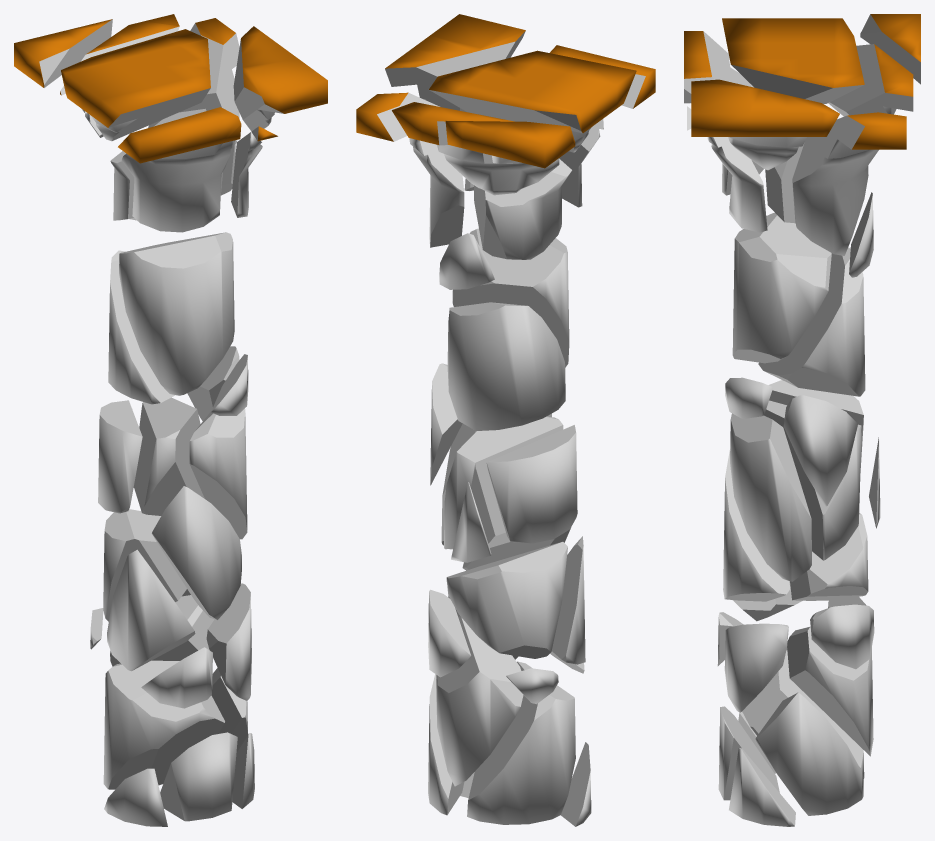
The model's file is FracturedColumn2.fbx.
3 views of the same model, side by side, from view 1: azimuth 30°, elevation 25°; view 2: azimuth 150°, elevation 25°; view 3: azimuth 270°, elevation 25° (orthographic).
Parts seen in each view (by area): view 1: Column - Outside_shard, Column - Outside_shard.008, Column - Outside_shard.011, Column - Outside_shard.026, Column - Outside_shard.022, Column - Outside_shard.006, Column - Outside_shard.010, Column - Outside_shard.027, Column - Outside_shard.025, Column - Outside_shard.024, Column - Outside_shard.028, Column - Outside_shard.015 (+14 smaller); view 2: Column - Outside_shard.009, Column - Outside_shard.008, Column - Outside_shard.026, Column - Outside_shard.015, Column - Outside_shard.004, Column - Outside_shard.028, Column - Outside_shard.010, Column - Outside_shard, Column - Outside_shard.001, Column - Outside_shard.027, Column - Outside_shard.023, Column - Outside_shard.029 (+12 smaller); view 3: Column - Outside_shard, Column - Outside_shard.008, Column - Outside_shard.025, Column - Outside_shard.023, Column - Outside_shard.010, Column - Outside_shard.012, Column - Outside_shard.009, Column - Outside_shard.004, Column - Outside_shard.007, Column - Outside_shard.027, Column - Outside_shard.005, Column - Outside_shard.022 (+16 smaller).
Boxes of the visible parts, x1,y1,x2,y2 form: Column - Outside_shard: (119,232,234,395); Column - Outside_shard.008: (61,29,210,141); Column - Outside_shard.011: (118,107,241,232); Column - Outside_shard.026: (103,660,224,789); Column - Outside_shard.022: (152,486,241,620); Column - Outside_shard.006: (107,549,195,671); Column - Outside_shard.010: (233,26,327,131); Column - Outside_shard.027: (133,397,204,515); Column - Outside_shard.025: (189,408,247,539); Column - Outside_shard.024: (160,732,237,821); Column - Outside_shard.028: (98,400,142,513); Column - Outside_shard.015: (103,509,186,621); Column - Outside_shard.009: (447,302,565,430); Column - Outside_shard.008: (429,50,636,152); Column - Outside_shard.026: (467,661,575,824); Column - Outside_shard.015: (446,541,567,658); Column - Outside_shard.004: (436,616,523,786); Column - Outside_shard.028: (486,425,577,543); Column - Outside_shard.010: (385,14,525,111); Column - Outside_shard: (452,228,569,367); Column - Outside_shard.001: (474,159,571,259); Column - Outside_shard.027: (444,416,563,549); Column - Outside_shard.023: (356,92,464,247); Column - Outside_shard.029: (392,102,559,195); Column - Outside_shard: (732,212,831,363); Column - Outside_shard.008: (722,18,864,103); Column - Outside_shard.025: (730,413,811,581); Column - Outside_shard.023: (792,112,906,255); Column - Outside_shard.010: (691,79,839,170); Column - Outside_shard.012: (755,692,863,815); Column - Outside_shard.009: (758,247,865,396); Column - Outside_shard.004: (787,626,873,756); Column - Outside_shard.007: (783,395,857,506); Column - Outside_shard.027: (764,400,861,560); Column - Outside_shard.005: (724,623,788,712); Column - Outside_shard.022: (723,449,790,601).
Bounding box in the file's own units: 270 × 944 × 277.
